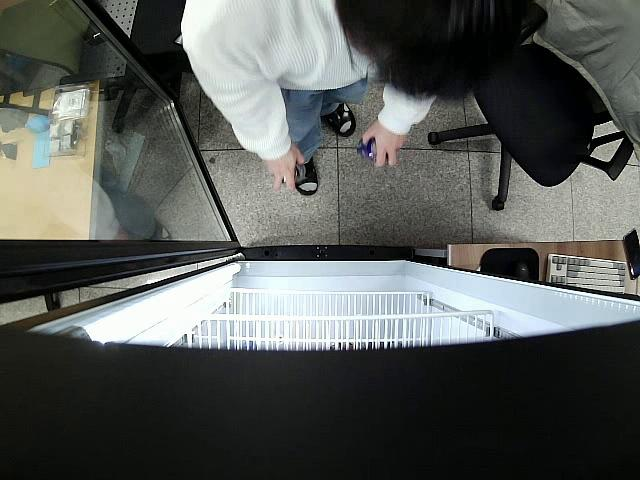00_hand: (363, 122, 407, 167), (264, 147, 307, 191)
14_welchsGrape: (355, 134, 390, 164)
